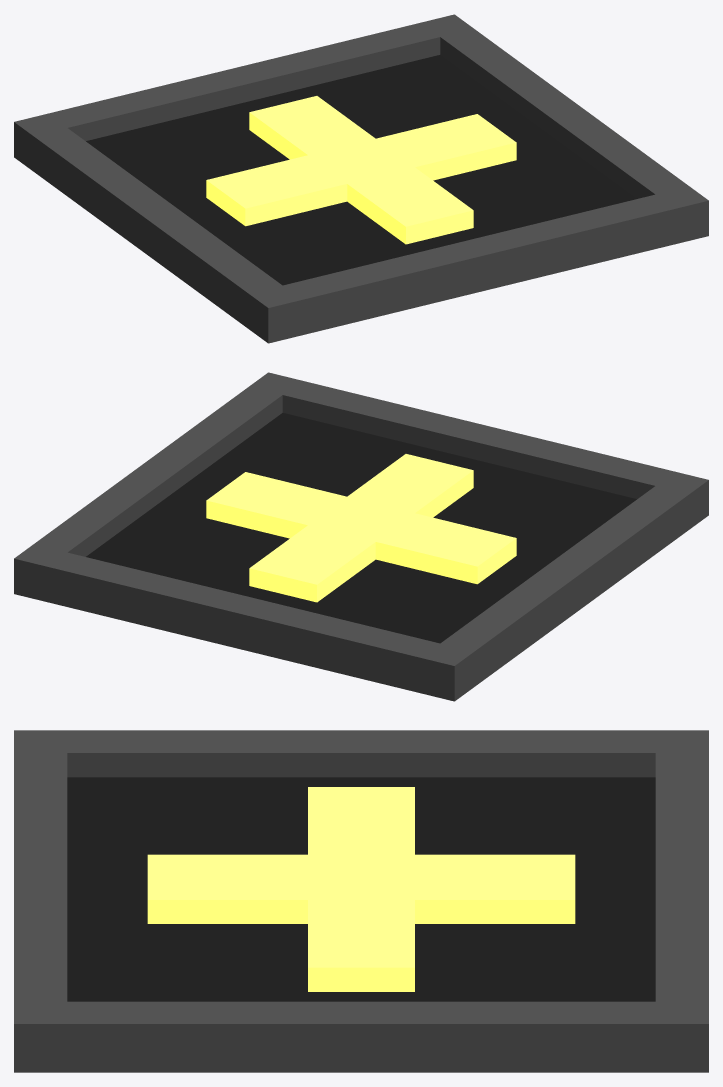
The model's file is trap_CROSSHAIR_YELLOW.glb.
3 renders of one model, top to bottom at view 1: azimuth 30°, elevation 25°; view 2: azimuth 150°, elevation 25°; view 3: azimuth 270°, elevation 25°, orthographic. The views are drawn at different scales.
Visible parts, largest first — view 1: item_TRAP_CROSSHAIR_YELLOW; view 2: item_TRAP_CROSSHAIR_YELLOW; view 3: item_TRAP_CROSSHAIR_YELLOW.
Boxes of the visible parts, x1=… form: item_TRAP_CROSSHAIR_YELLOW: x1=14, y1=14, x2=708, y2=343; item_TRAP_CROSSHAIR_YELLOW: x1=14, y1=372, x2=708, y2=701; item_TRAP_CROSSHAIR_YELLOW: x1=14, y1=730, x2=708, y2=1072.
Bounding box in the file's own units: 0.5909 × 0.0455 × 0.5909.
Materials: 1 (1 with a texture image).
